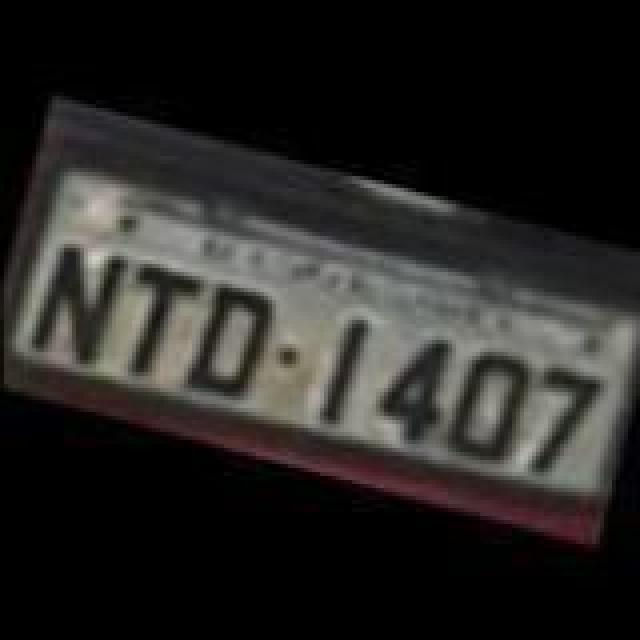1: (306, 304, 378, 432)
4: (362, 324, 462, 456)
7: (512, 358, 608, 482)
D: (184, 276, 284, 408)
N: (20, 230, 128, 370)
O: (438, 336, 538, 468)
T: (102, 260, 206, 392)
